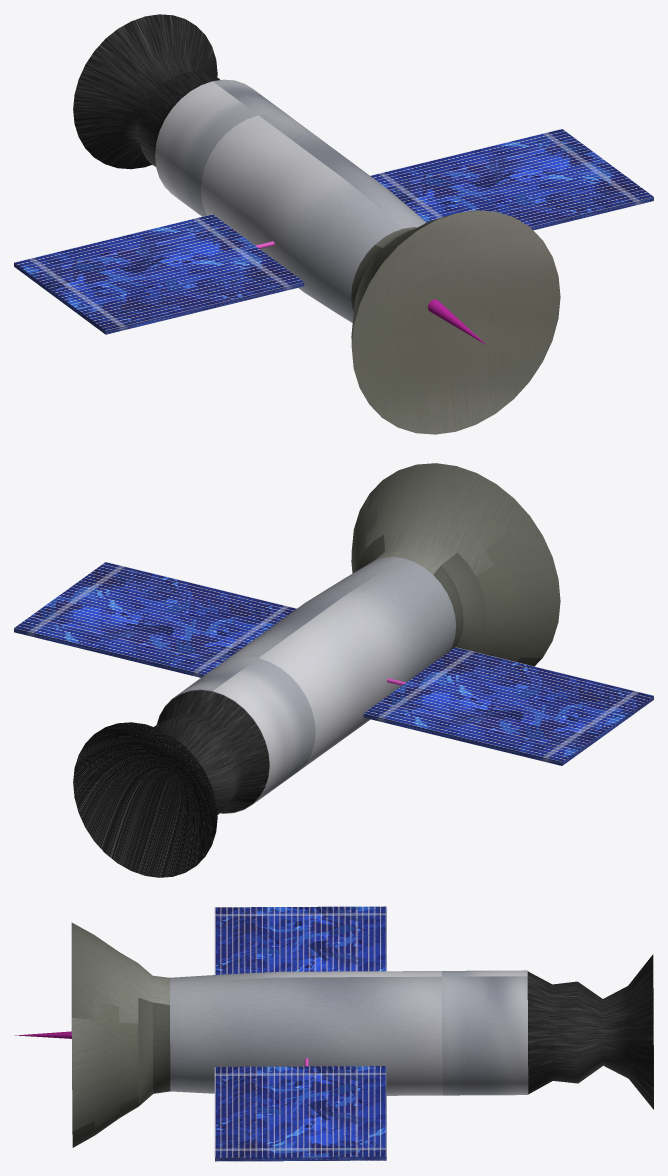
Rendered from Probe.obj.
The picture shows the model from 3 angles, top to bottom: view 1: azimuth 30°, elevation 25°; view 2: azimuth 150°, elevation 25°; view 3: azimuth 270°, elevation 25°; orthographic projection. The views are drawn at different scales.
Parts seen in each view (by area): view 1: CommunicationsArray, Fuel, SolarRight, SolarLeft, PowerGeneration, SensorSuite; view 2: CommunicationsArray, PowerGeneration, Fuel, SolarRight, SolarLeft, SensorSuite; view 3: Fuel, SolarLeft, CommunicationsArray, PowerGeneration, SolarRight, SensorSuite.
Boxes of the visible parts, <box> form: CommunicationsArray: <box>351,210,560,434</box>; Fuel: <box>200,113,426,322</box>; SolarRight: <box>14,214,304,334</box>; SolarLeft: <box>370,129,653,230</box>; PowerGeneration: <box>73,14,219,169</box>; SensorSuite: <box>155,79,296,216</box>; CommunicationsArray: <box>351,463,560,666</box>; PowerGeneration: <box>73,690,269,877</box>; Fuel: <box>221,557,456,769</box>; SolarRight: <box>363,647,653,765</box>; SolarLeft: <box>14,562,296,677</box>; SensorSuite: <box>156,656,315,813</box>; Fuel: <box>170,971,442,1095</box>; SolarLeft: <box>214,1066,386,1161</box>; CommunicationsArray: <box>71,922,170,1147</box>; PowerGeneration: <box>527,954,653,1109</box>; SolarRight: <box>214,906,386,974</box>; SensorSuite: <box>442,970,528,1095</box>.
Bounding box in the file's own units: 0.69 × 0.2636 × 0.7457.
Materials: 6 (4 with a texture image).
